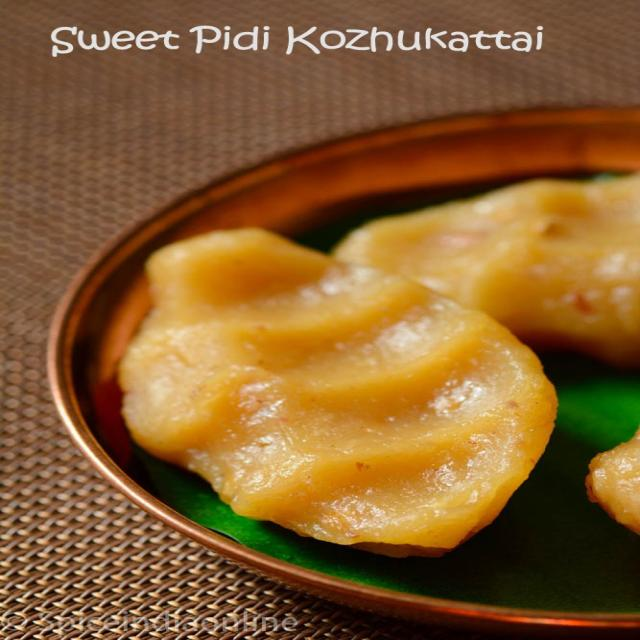pidi kolukattai: (96, 142, 640, 583)
